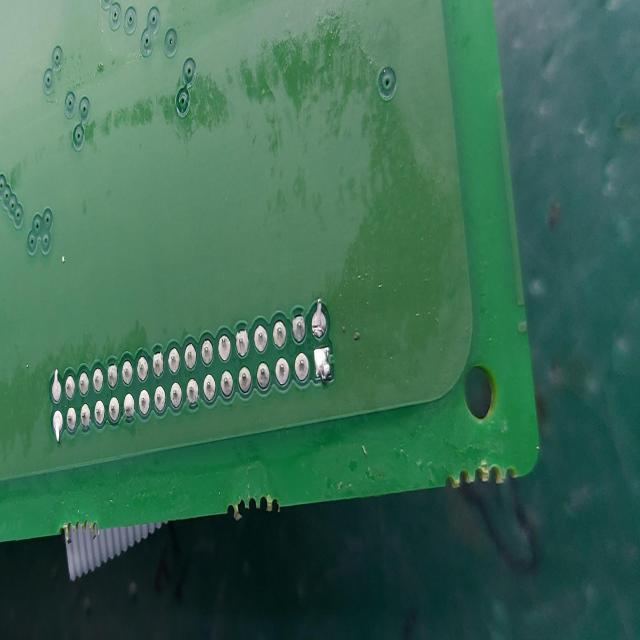slug: (310, 348, 333, 389), (308, 297, 330, 338), (45, 367, 62, 404), (48, 408, 64, 443)
